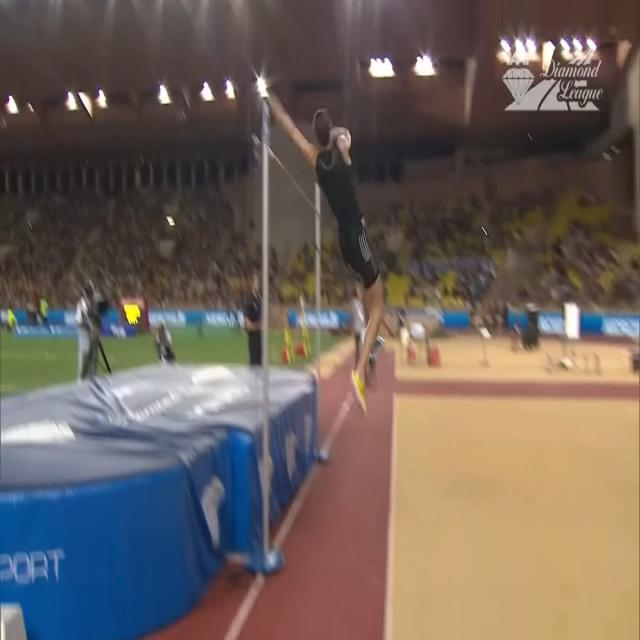jump: (271, 93, 384, 418)
